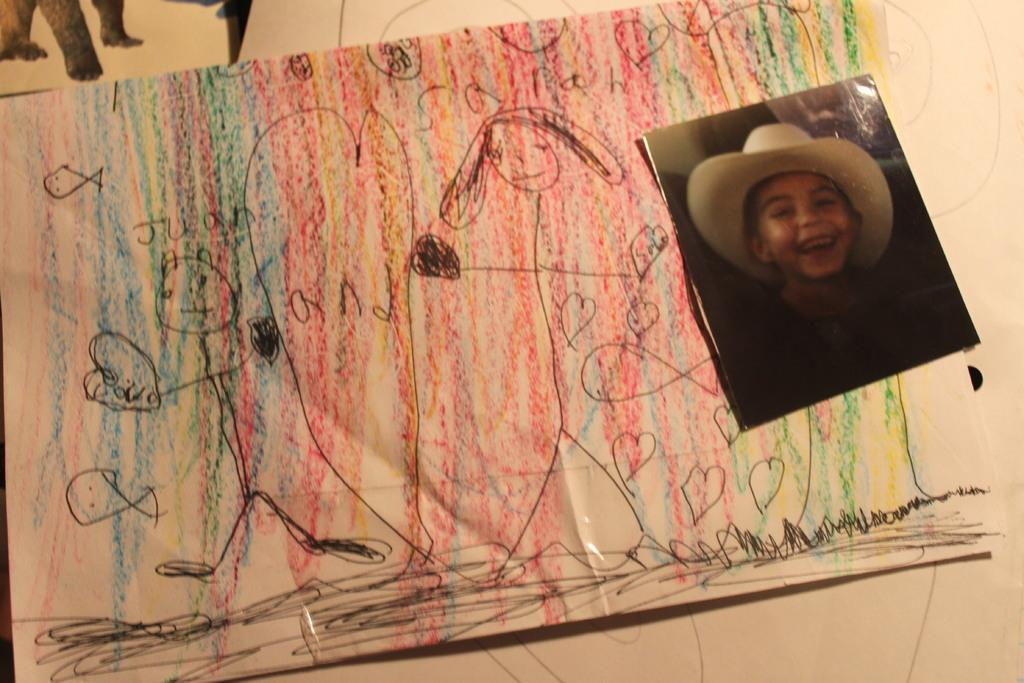Hat: (684, 126, 892, 288)
